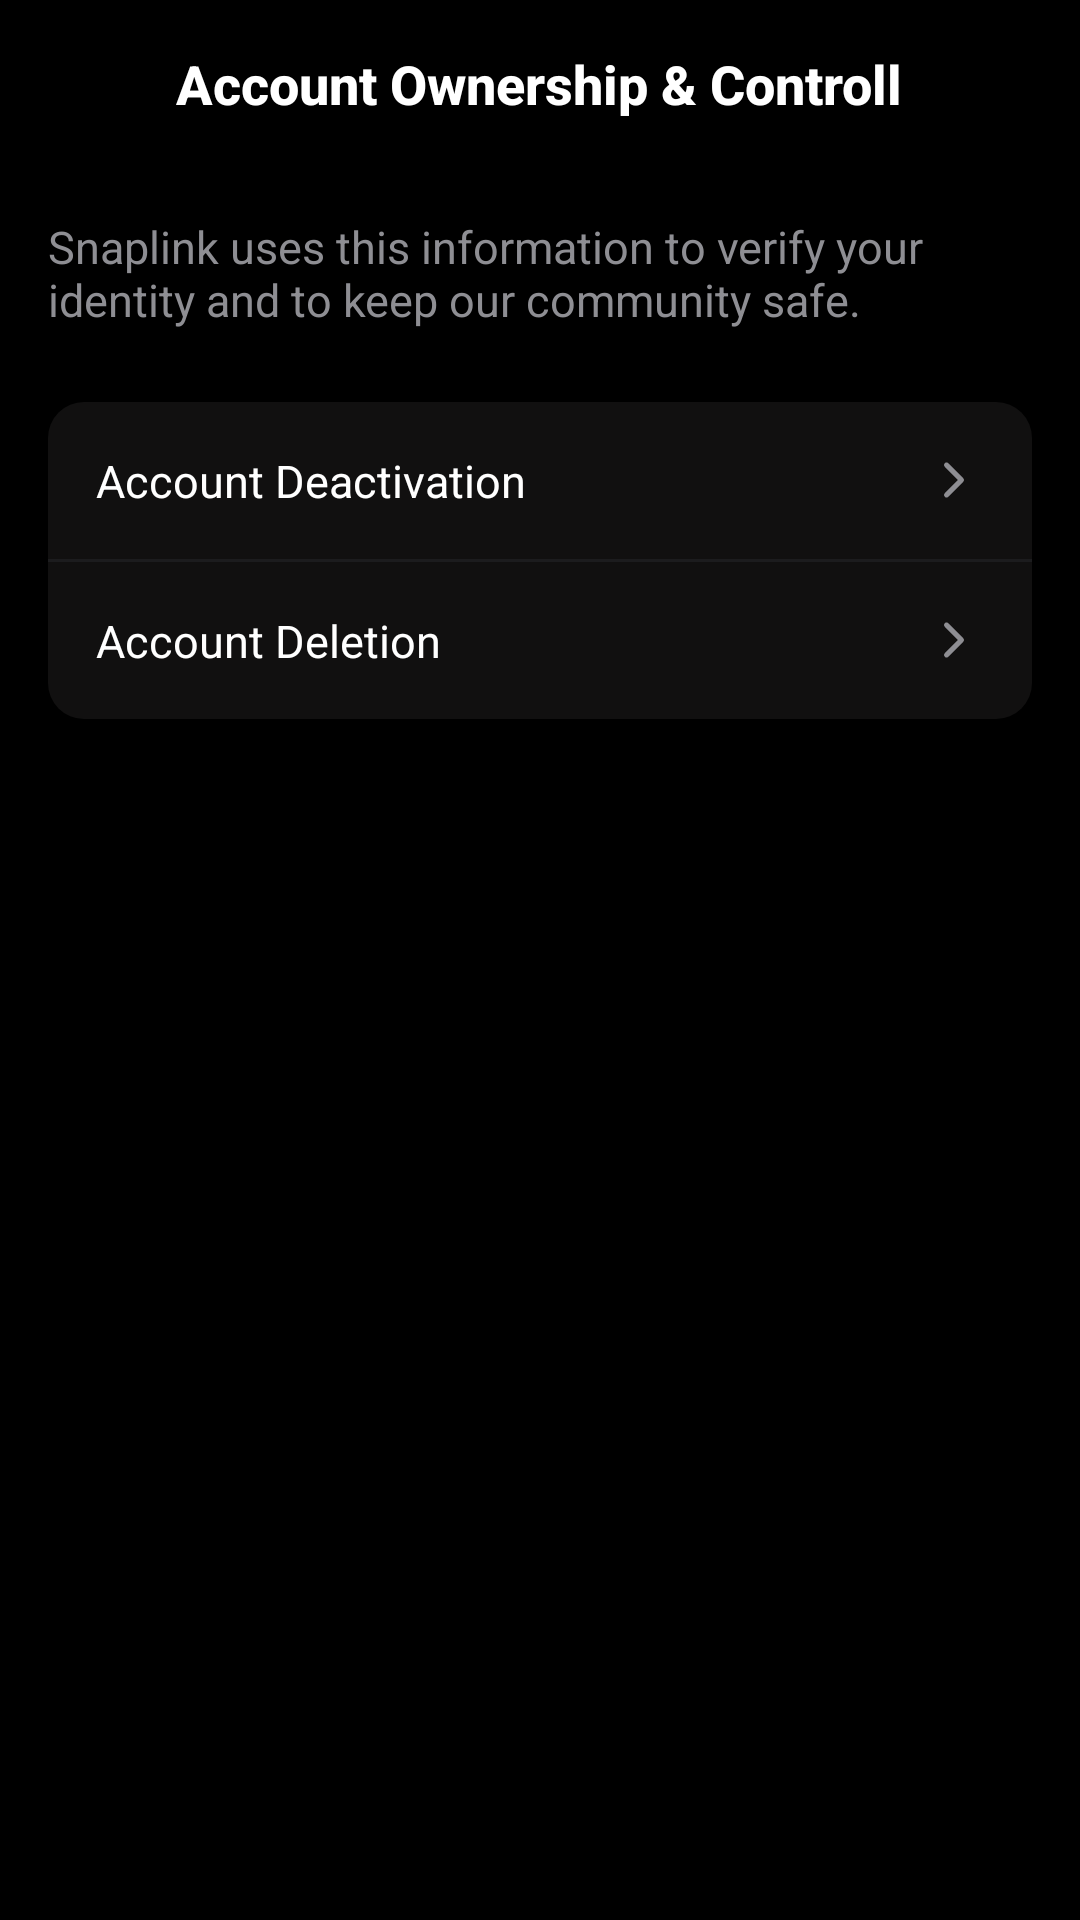

Icons on this 1080w x 1920h Android screen, each with the point to tap as point (x, y):
chevron right: point (954, 480), point (954, 640)
